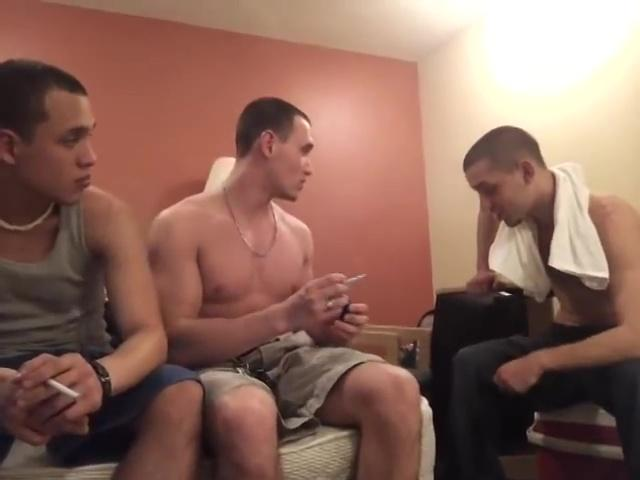cigarette: (47, 378, 83, 399), (339, 272, 372, 286)
